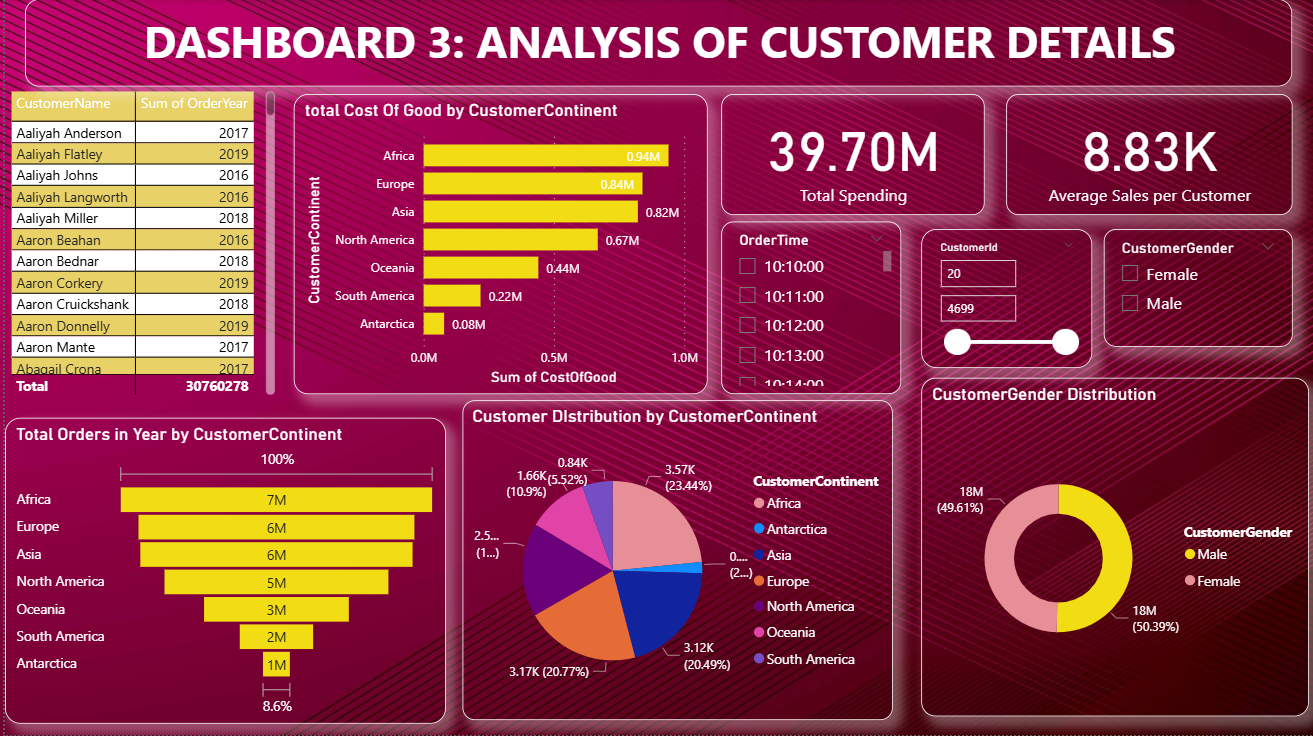

The dashboard page shown, as its layout file describes it:
{"tool":"powerbi","page":{"name":"DASHBOARD 3: ANALYSIS OF CUSTOMER DETAILS","canvas":[1280,720],"ordinal":2},"visuals":[{"type":"donutChart","title":" CustomerGender Distribution","fields":{"Category":["E-Commerce Dataset.CustomerGender"],"Y":["Sum(E-Commerce Dataset.CustomerId)"]},"box":[896,370.4,378.9,331.3],"z":0},{"type":"pieChart","title":"Customer DIstribution by CustomerContinent","fields":{"Y":["CountNonNull(E-Commerce Dataset.CustomerId)"],"Series":["E-Commerce Dataset.CustomerContinent"]},"box":[447.4,392.4,420.5,312.9],"z":1000},{"type":"funnel","title":"Total Orders in Year by CustomerContinent","fields":{"Category":["E-Commerce Dataset.CustomerContinent"],"Y":["Sum(E-Commerce Dataset.OrderYear)"]},"box":[0,409.5,431.5,299.5],"z":2000},{"type":"tableEx","fields":{"Values":["E-Commerce Dataset.CustomerName","Sum(E-Commerce Dataset.OrderYear)"]},"box":[0,85.6,268.9,306.8],"z":3000},{"type":"card","fields":{"Values":["E-Commerce Dataset.Average Sales per Customer"]},"box":[979.2,92.9,279.9,118.6],"z":4000},{"type":"card","fields":{"Values":["E-Commerce Dataset.Total Spending"]},"box":[700.4,92.9,257.9,118.6],"z":5000},{"type":"slicer","fields":{"Values":["E-Commerce Dataset.CustomerId"]},"box":[896,224.9,167.5,135.7],"z":6000},{"type":"slicer","fields":{"Values":["E-Commerce Dataset.CustomerGender"]},"box":[1074.5,224.9,184.6,114.9],"z":7000},{"type":"slicer","fields":{"Values":["E-Commerce Dataset.OrderTime"]},"box":[700.4,217.6,176,168.7],"z":8000},{"type":"barChart","title":"total Cost Of Good by CustomerContinent","fields":{"Category":["E-Commerce Dataset.CustomerContinent"],"Y":["Sum(E-Commerce Dataset.CostOfGood)"]},"box":[282.4,92.9,404.6,293.4],"z":9000},{"type":"textbox","box":[19.6,0,1239.5,85.6],"z":10000}]}

Visuals, with their boxes in screenshot pixels (x1, y1, x2, y2), scaled from the page's 1280x720 canvas onto the 1313x736 screenshot:
" CustomerGender Distribution" donutChart: 919:379:1308:717
"Customer DIstribution by CustomerContinent" pieChart: 459:401:890:721
"Total Orders in Year by CustomerContinent" funnel: 0:419:443:725
tableEx - E-Commerce Dataset.CustomerName x Sum(E-Commerce Dataset.OrderYear): 0:88:276:401
card - E-Commerce Dataset.Average Sales per Customer: 1004:95:1292:216
card - E-Commerce Dataset.Total Spending: 718:95:983:216
slicer - E-Commerce Dataset.CustomerId: 919:230:1091:369
slicer - E-Commerce Dataset.CustomerGender: 1102:230:1292:347
slicer - E-Commerce Dataset.OrderTime: 718:222:899:395
"total Cost Of Good by CustomerContinent" barChart: 290:95:705:395
textbox: 20:0:1292:88
